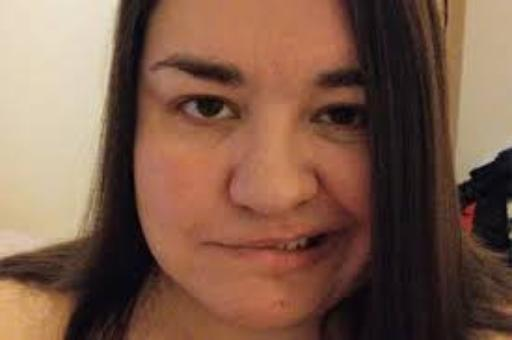left_eye: (308, 107, 372, 131)
left_lip_corner: (318, 223, 349, 251)
right_eye: (173, 98, 244, 124)
right_lip_corner: (195, 237, 231, 253)
